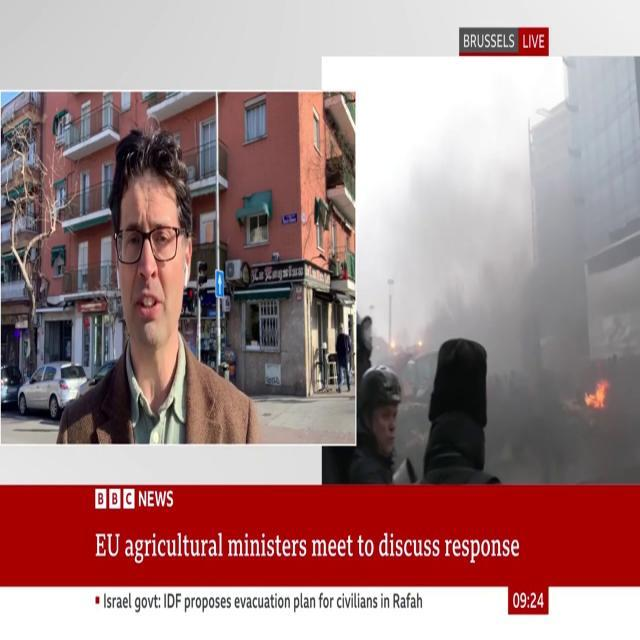Fire: (582, 370, 610, 410)
Smoke: (371, 57, 640, 427)
